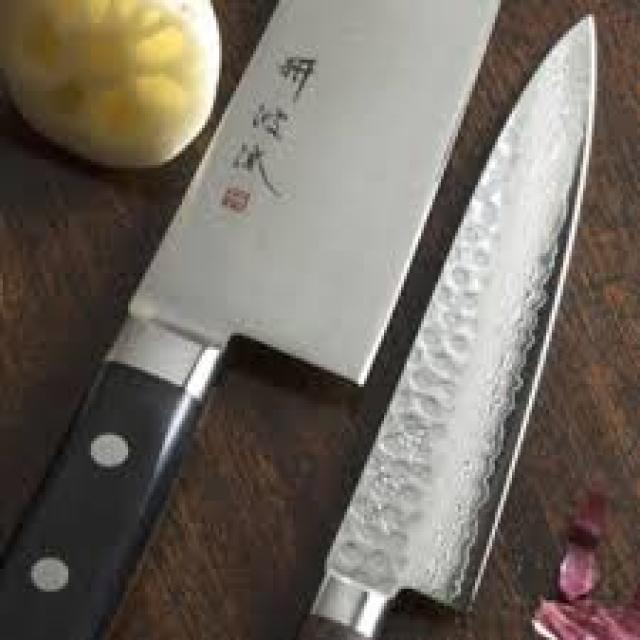knives: (364, 7, 590, 610)
